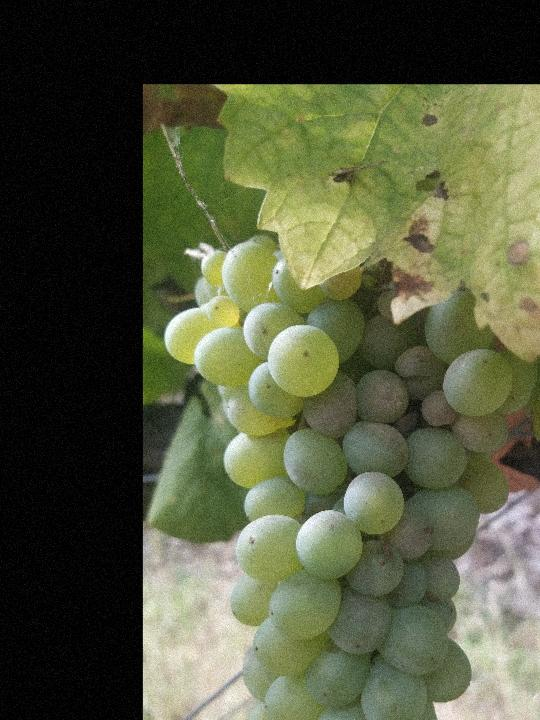grape: (162, 236, 538, 720)
